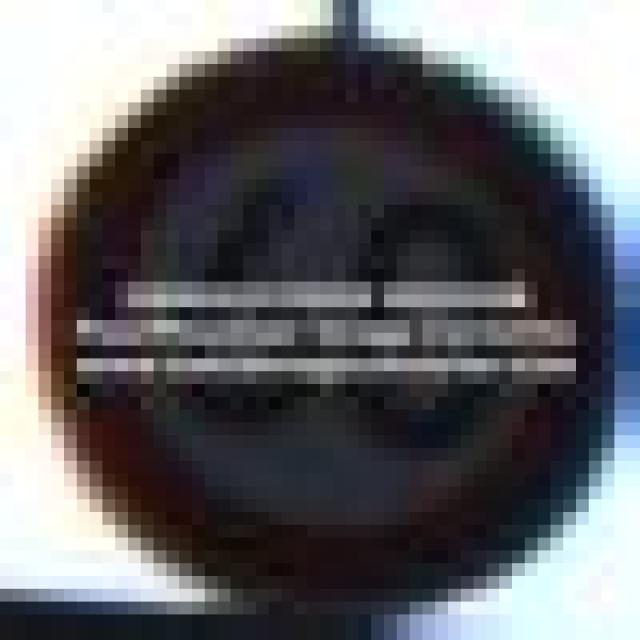speed_limit_40: (38, 38, 589, 576)
